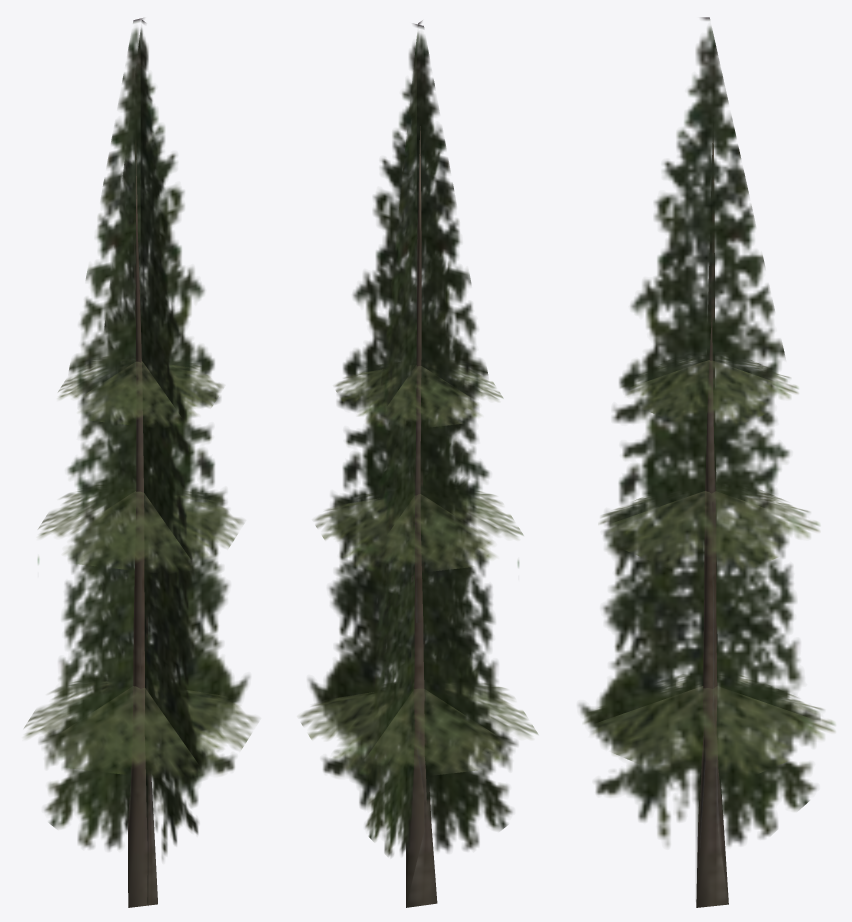
Rendered from distant-tree-01.glb.
3 renders of one model, left to right at view 1: azimuth 30°, elevation 25°; view 2: azimuth 150°, elevation 25°; view 3: azimuth 270°, elevation 25°, orthographic.
Parts seen in each view (by area): view 1: Background_Tree_Atlas; view 2: Background_Tree_Atlas; view 3: Background_Tree_Atlas.
Part boxes in pixels (left/top/right/bottom): Background_Tree_Atlas: left=24, top=18, right=258, bottom=907; Background_Tree_Atlas: left=299, top=20, right=537, bottom=907; Background_Tree_Atlas: left=578, top=17, right=834, bottom=907.
Size of the model in its own units: 696 by 2601 by 705.
Materials: 1 (1 with a texture image).
